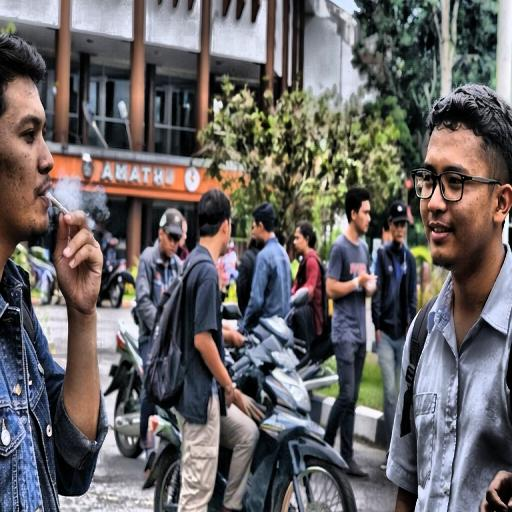Merokok: (45, 190, 72, 213)
Rokok: (49, 176, 109, 229)
